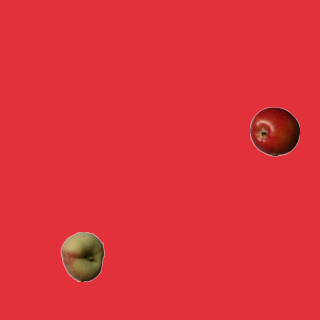Apple Braeburn: (249, 106, 299, 156)
Peach Flat: (57, 231, 107, 281)
